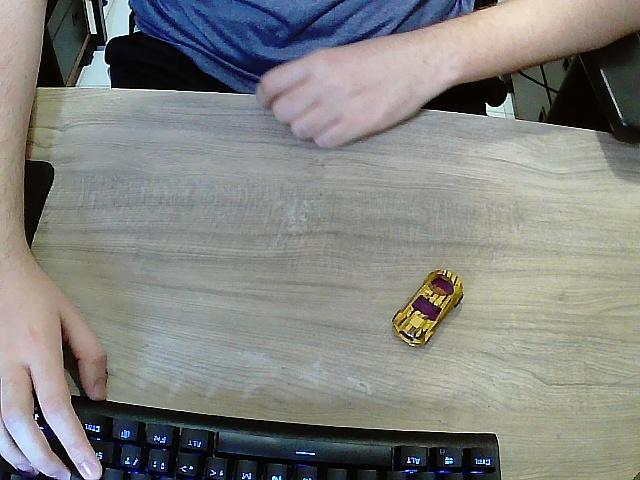Carro: (392, 270, 464, 349)
